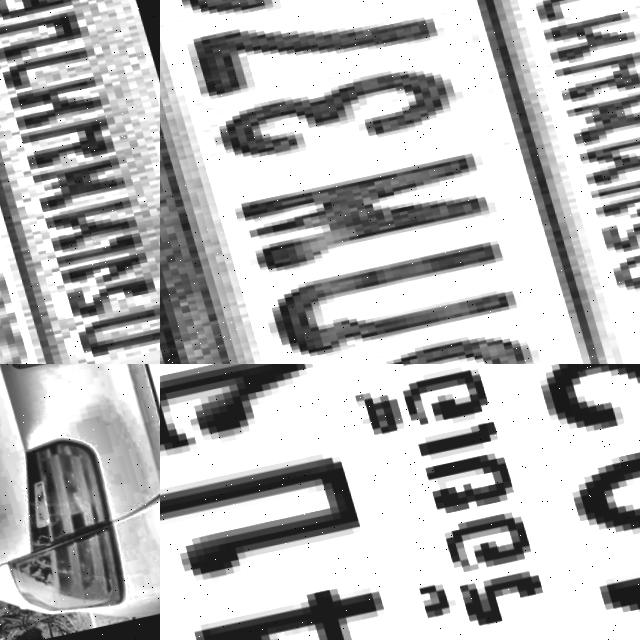license-plate: (160, 0, 640, 364), (160, 364, 640, 640), (0, 0, 160, 364)
